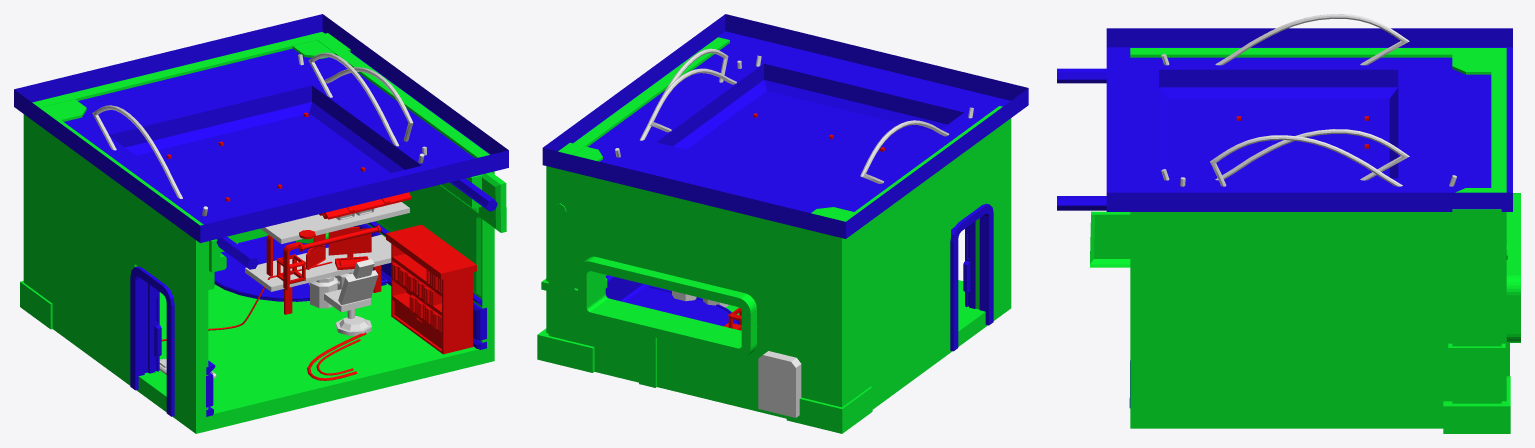
The picture shows the model from 3 angles, left to right: view 1: azimuth 30°, elevation 25°; view 2: azimuth 150°, elevation 25°; view 3: azimuth 270°, elevation 25°; orthographic projection. The views are drawn at different scales.
Visible parts, largest first — view 1: Box554, Object070, Box555, Object071; view 2: Box554, Object070, Object071; view 3: Box554, Object070, Object071.
Part boxes in pixels (bbox=[...]): Box554: bbox=[20, 32, 506, 433]; Object070: bbox=[14, 14, 508, 416]; Box555: bbox=[161, 112, 476, 380]; Object071: bbox=[92, 52, 426, 378]; Box554: bbox=[537, 37, 1011, 433]; Object070: bbox=[542, 14, 1028, 351]; Object071: bbox=[615, 48, 973, 417]; Box554: bbox=[1090, 48, 1520, 433]; Object070: bbox=[1057, 28, 1512, 407]; Object071: bbox=[1161, 14, 1456, 186].
Size of the model in its own units: 1055 by 789 by 1232.
